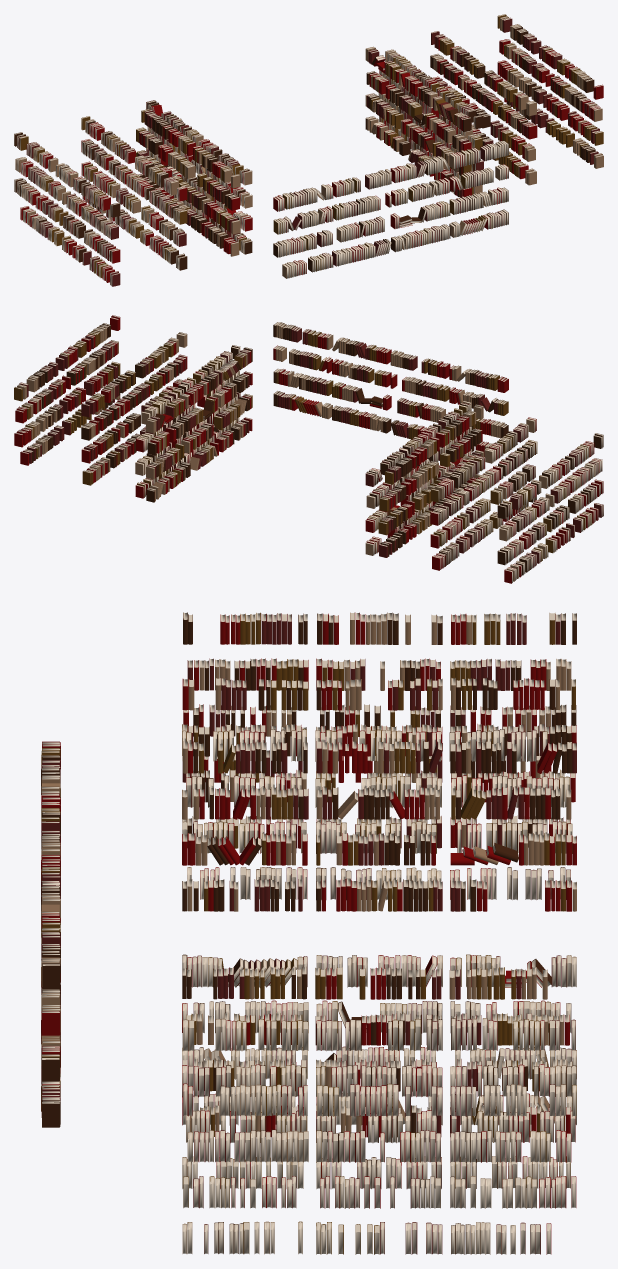
The model's file is books4.glb.
3 views of the same model, one above another, from view 1: azimuth 30°, elevation 25°; view 2: azimuth 150°, elevation 25°; view 3: azimuth 270°, elevation 25° (orthographic). The views are drawn at different scales.
Visible parts, largest first — view 1: books5, books_nice_back_2, books4, books_nice_back, books7; view 2: books5, books4, books_nice_back_2, books_nice_back, books7; view 3: books5, books_nice_back, books4, books7, books_nice_back_2.
Boxes of the visible parts, x1=… form: books5: x1=14, y1=14, x2=603, y2=286; books_nice_back_2: x1=273, y1=140, x2=508, y2=278; books4: x1=81, y1=31, x2=537, y2=270; books_nice_back: x1=146, y1=46, x2=471, y2=254; books7: x1=136, y1=49, x2=483, y2=256; books5: x1=14, y1=315, x2=603, y2=583; books4: x1=81, y1=332, x2=537, y2=570; books_nice_back_2: x1=273, y1=322, x2=508, y2=456; books_nice_back: x1=146, y1=347, x2=471, y2=555; books7: x1=135, y1=345, x2=483, y2=557; books5: x1=182, y1=612, x2=576, y2=1254; books_nice_back: x1=182, y1=741, x2=576, y2=1125; books4: x1=182, y1=677, x2=576, y2=1188; books7: x1=182, y1=729, x2=572, y2=1137; books_nice_back_2: x1=41, y1=741, x2=60, y2=1127.
Bounding box in the file's own units: 20.59 × 3.27 × 9.71.
1 material, 1 textured.
